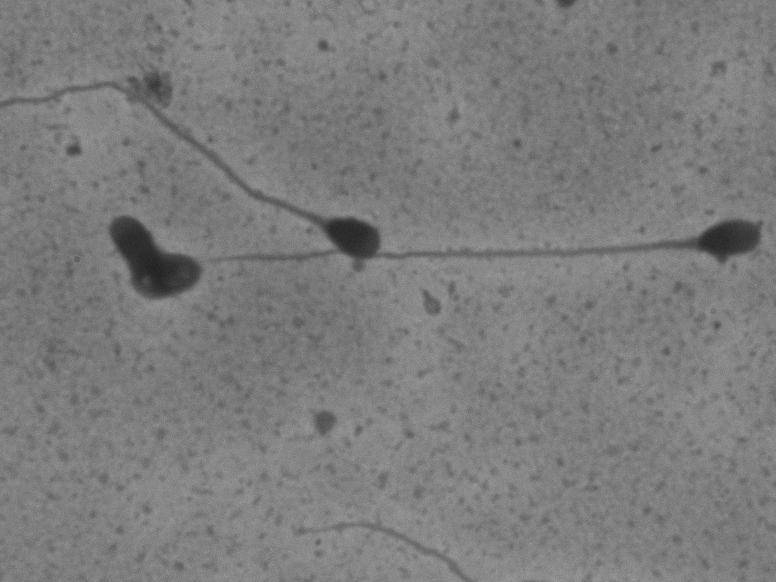Normal: (8, 73, 390, 264), (189, 211, 766, 276)
